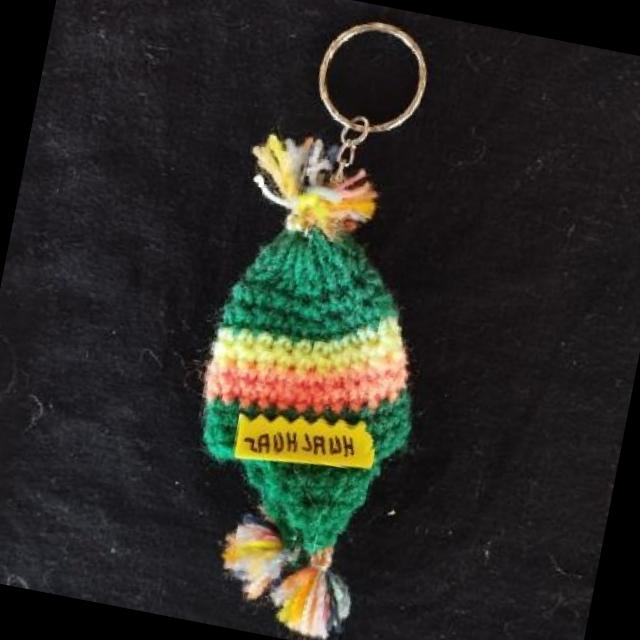Llavero: (157, 120, 465, 640)
